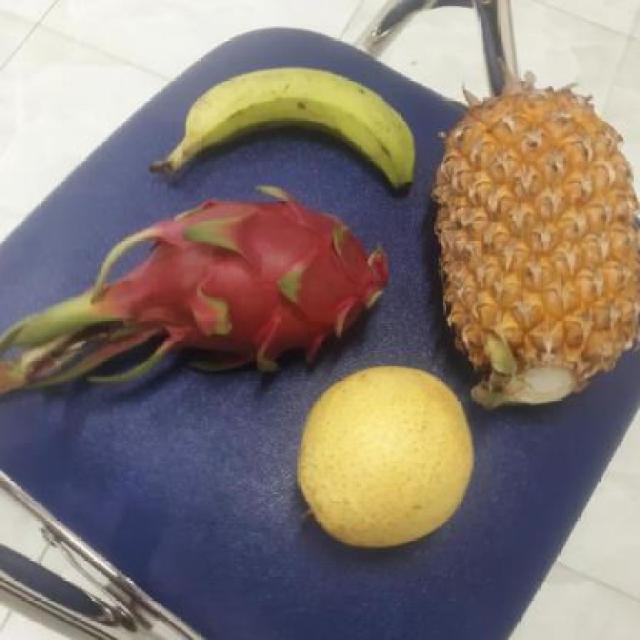banana: (175, 65, 422, 193)
dragon fruit: (109, 193, 420, 376)
pear: (293, 363, 479, 548)
pineapple: (432, 97, 639, 406)
